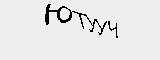Т: (75, 10, 88, 30)
У: (94, 17, 108, 39), (86, 17, 98, 33)
Ч: (105, 19, 124, 40)
Ю: (44, 3, 72, 24)
